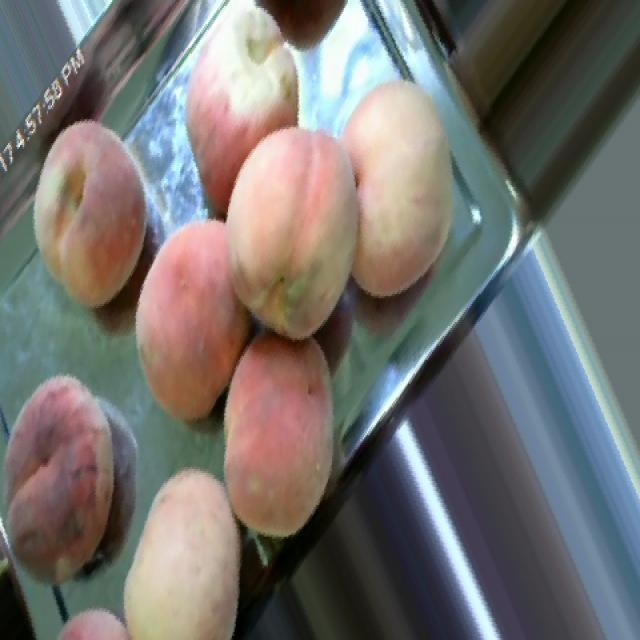Fruit: (144, 103, 385, 362), (199, 308, 384, 559), (107, 183, 284, 441), (318, 62, 491, 320), (0, 357, 149, 606), (8, 101, 169, 330), (103, 449, 284, 640)
